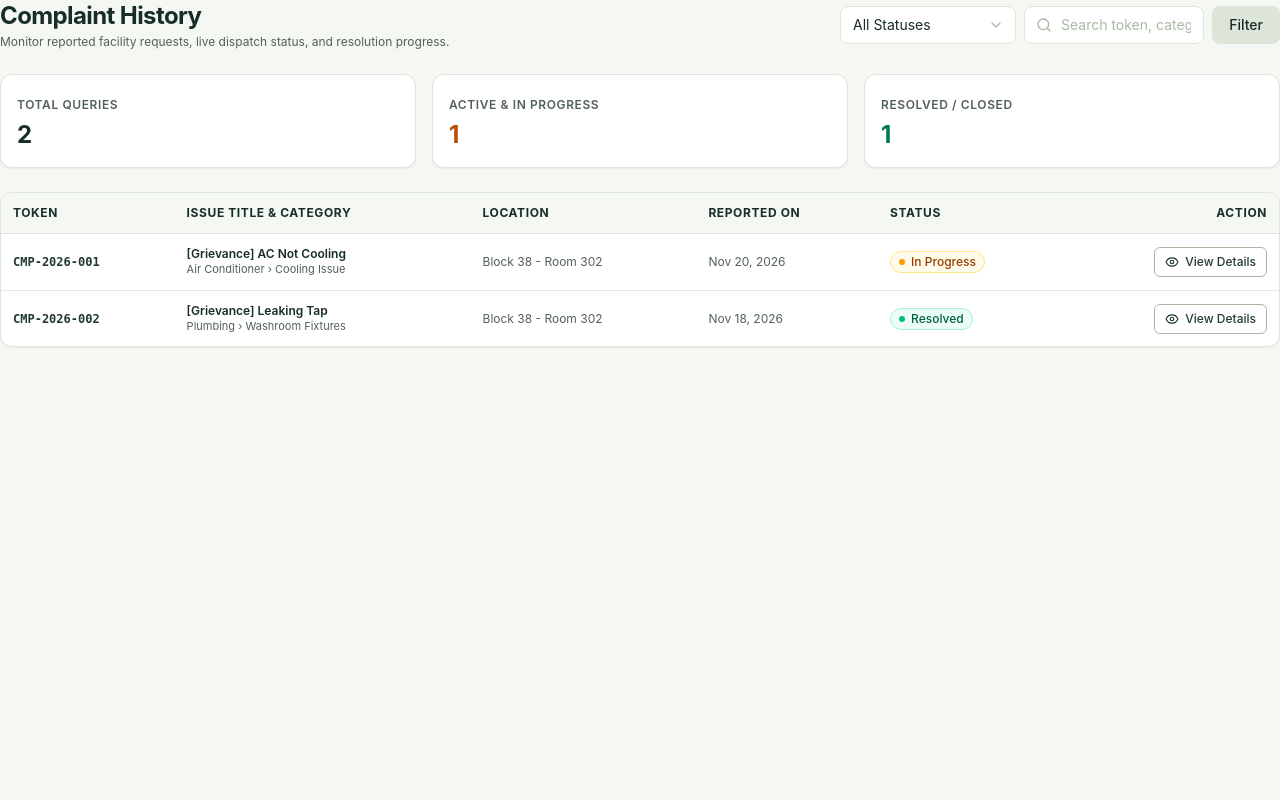
Test: FIPP 2.0 Phase 3 — Student Portal Unit Tests › 4. Student History & Status Progression Timeline › opens detail modal and displays genuine 5-stage lifecycle and withdrawal button for open tickets
The width and height of the screenshot is (1280, 800).
expect the text "CMP-2026-001" is shown: met, box x1=1 y1=234 x2=175 y2=290
What coordinates should you click on to do the following:
click the button "View Details" in the row of "CMP-2026-001"
I would click on:
 (1211, 262)
Its box is x1=1154 y1=247 x2=1267 y2=277.
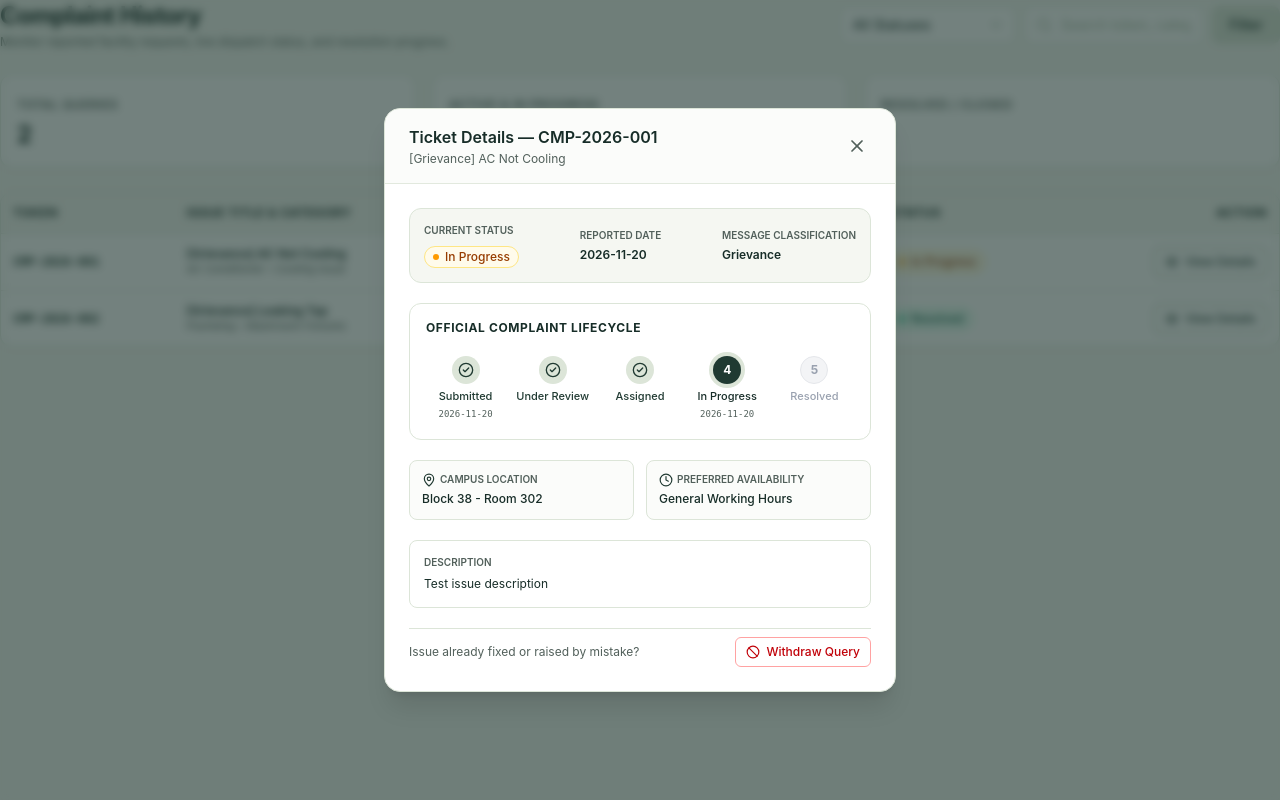
expect the heading "Ticket Details — CMP-2026-001" is shown: met, box x1=409 y1=125 x2=658 y2=149
expect the text "Official Complaint Lifecycle" is shown: met, box x1=426 y1=320 x2=641 y2=335
expect the button "Withdraw Query" is shown: met, box x1=735 y1=637 x2=871 y2=667
